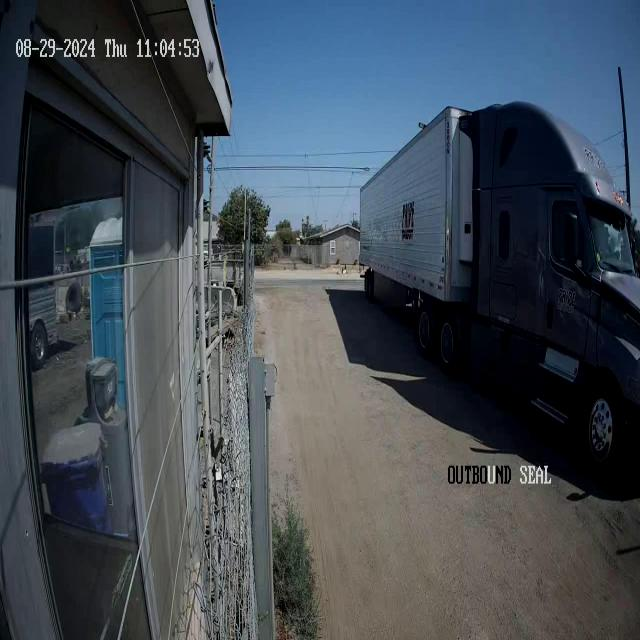CONTAINER: (358, 105, 474, 306)
